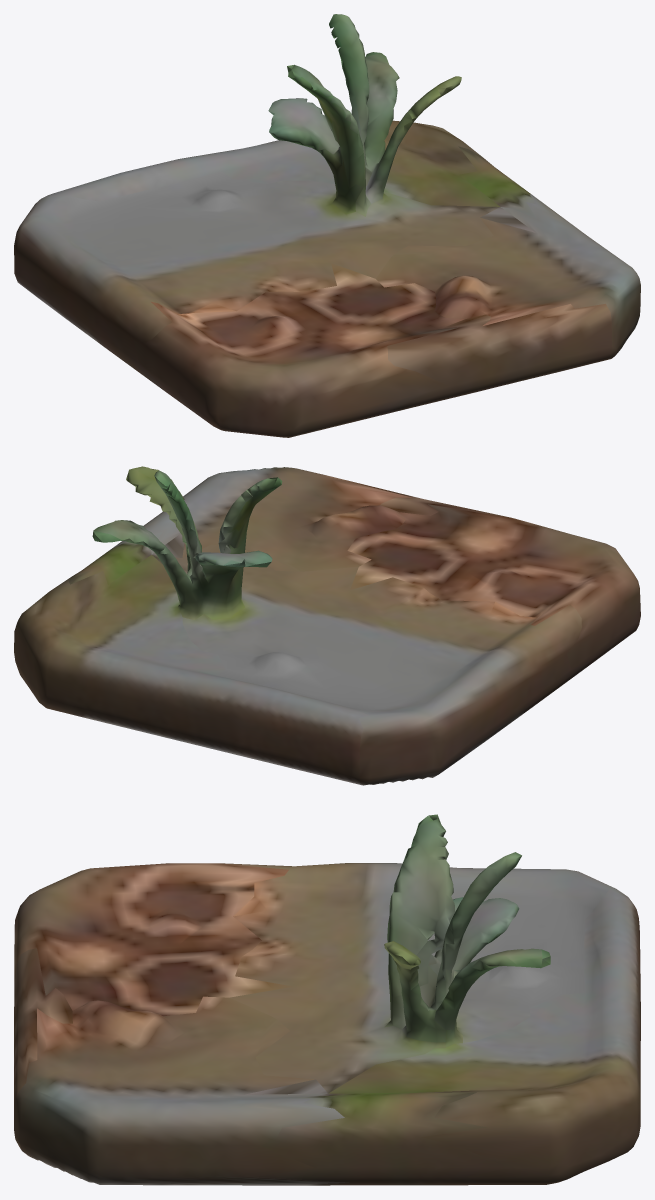
The model's file is s08_lama_fungos.glb.
3 renders of one model, top to bottom at view 1: azimuth 30°, elevation 25°; view 2: azimuth 150°, elevation 25°; view 3: azimuth 270°, elevation 25°, orthographic. The views are drawn at different scales.
Parts seen in each view (by area): view 1: s08_lama_fungos; view 2: s08_lama_fungos; view 3: s08_lama_fungos.
Boxes of the visible parts, <box> form: s08_lama_fungos: <box>14,14,640,437</box>; s08_lama_fungos: <box>14,466,640,785</box>; s08_lama_fungos: <box>14,814,640,1185</box>.
Bounding box in the file's own units: 1.01 × 0.4761 × 1.04.
1 material, 1 textured.
